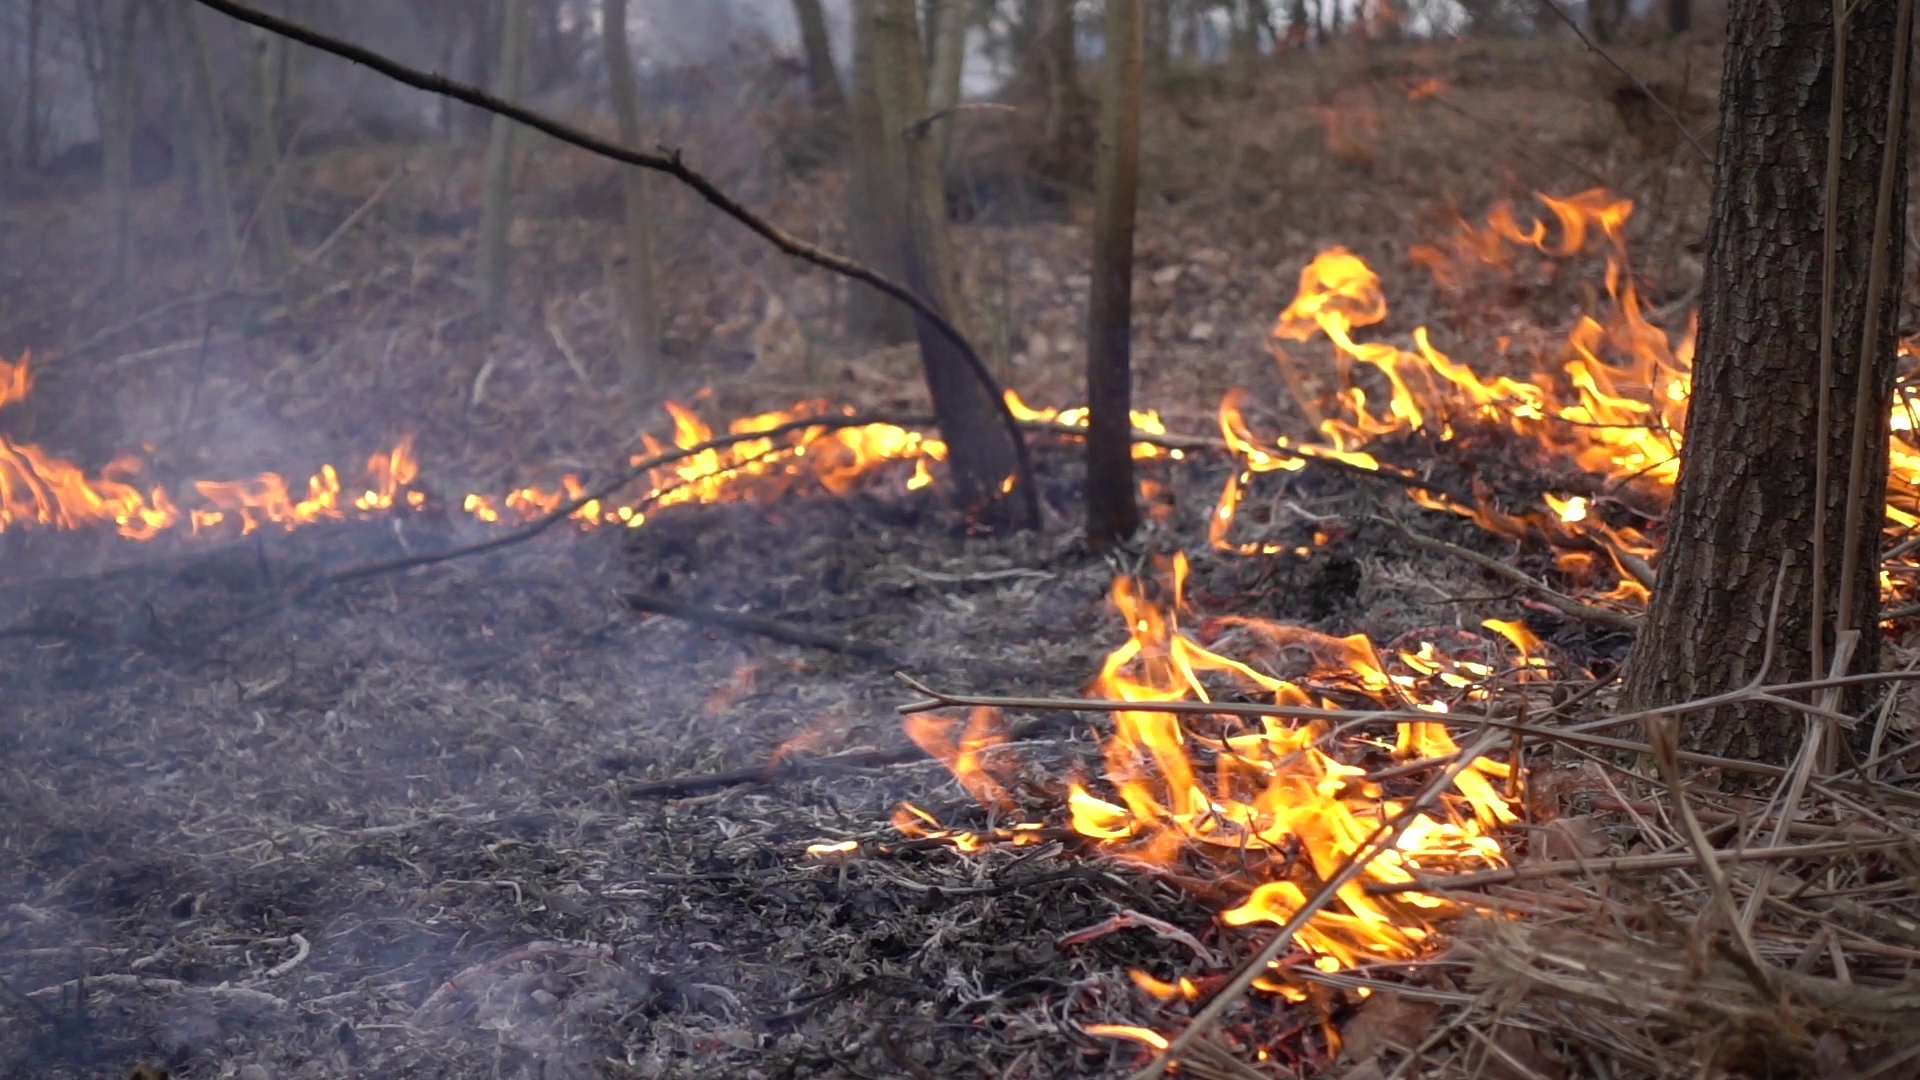fire: (1058, 571, 1532, 1002), (1222, 185, 1697, 493), (629, 406, 934, 510), (3, 438, 170, 535), (198, 455, 426, 522), (1882, 397, 1920, 541)
